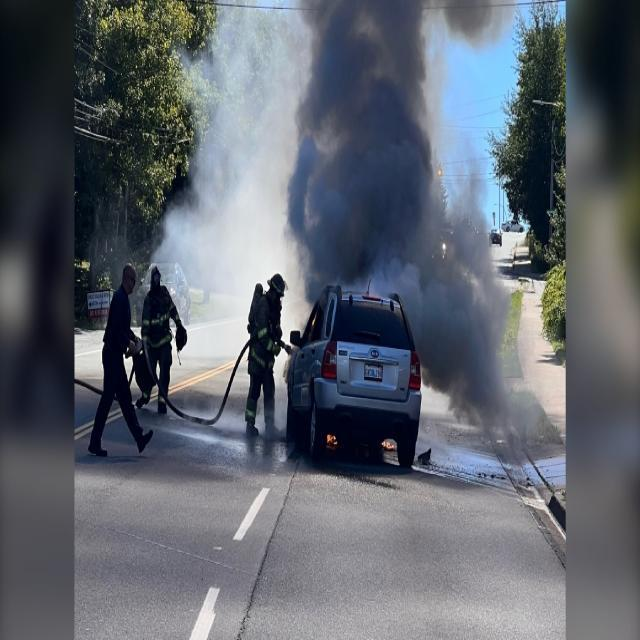Smoke: (285, 0, 512, 433), (147, 0, 313, 362)
